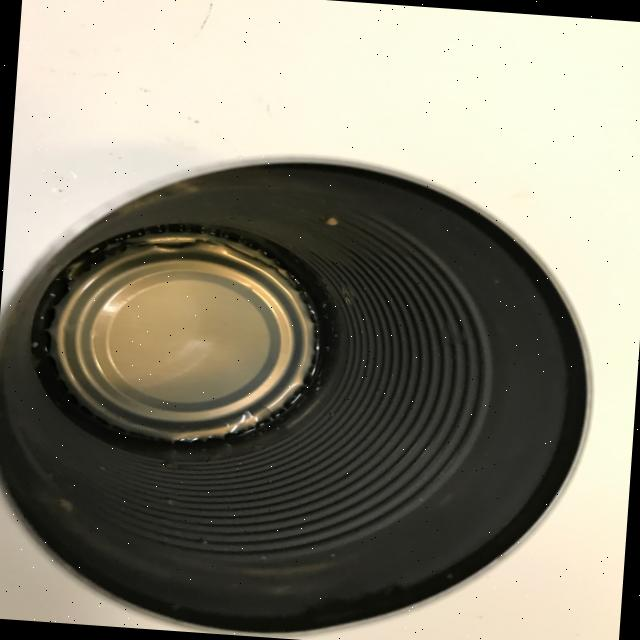metal: (0, 133, 608, 640)
